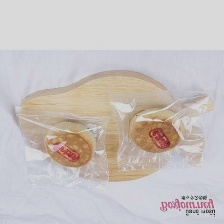snack: (104, 85, 220, 177), (7, 101, 115, 199)
